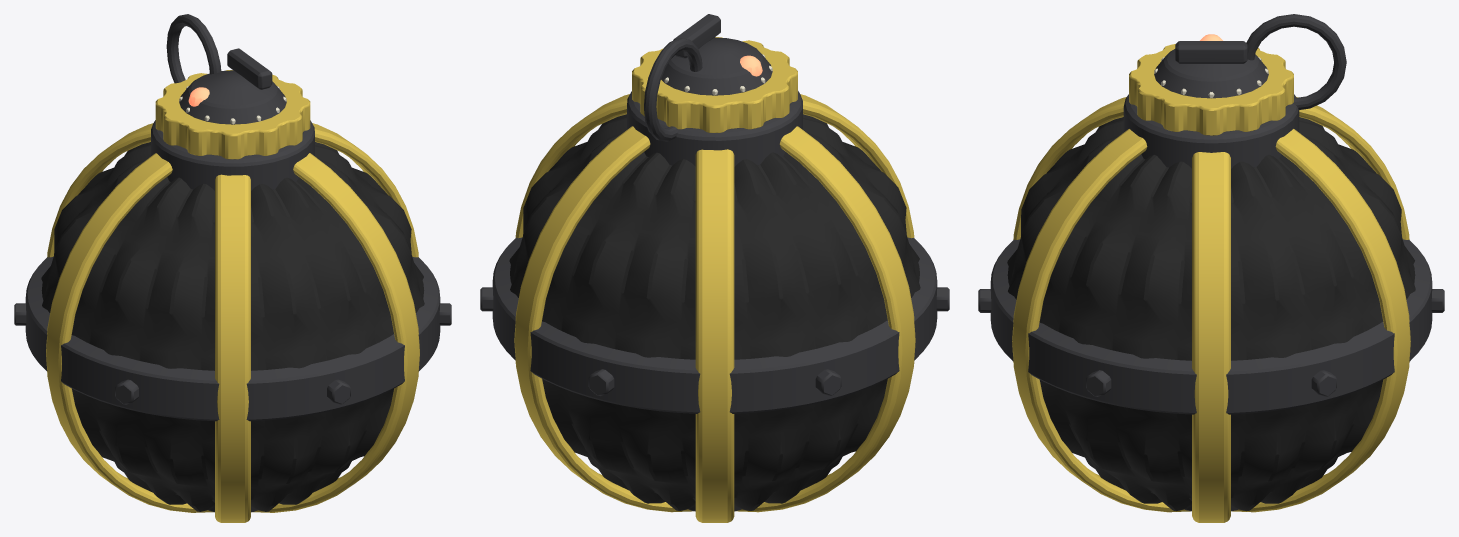
Rendered from boundgren.glb.
3 views of the same model, side by side, from view 1: azimuth 30°, elevation 25°; view 2: azimuth 150°, elevation 25°; view 3: azimuth 270°, elevation 25° (orthographic). The views are drawn at different scales.
Parts seen in each view (by area): view 1: Body; view 2: Body; view 3: Body.
Part boxes in pixels (box(x1,y1,x2,y2)): Body: box(14, 14, 451, 522); Body: box(480, 14, 949, 522); Body: box(978, 14, 1444, 522).
Bounding box in the file's own units: 0.0862 × 0.1043 × 0.0904.
